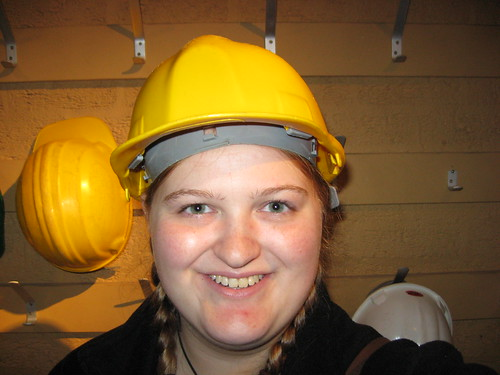hardhat: (15, 114, 138, 281), (349, 267, 478, 363)
person hardhat: (56, 32, 425, 375)
